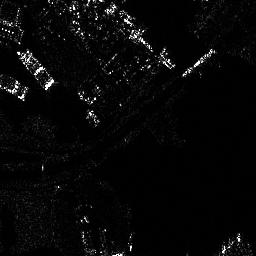ship: (182, 46, 216, 76)
